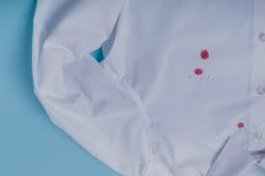blood: (200, 48, 209, 62), (237, 121, 245, 130), (195, 68, 202, 76)
